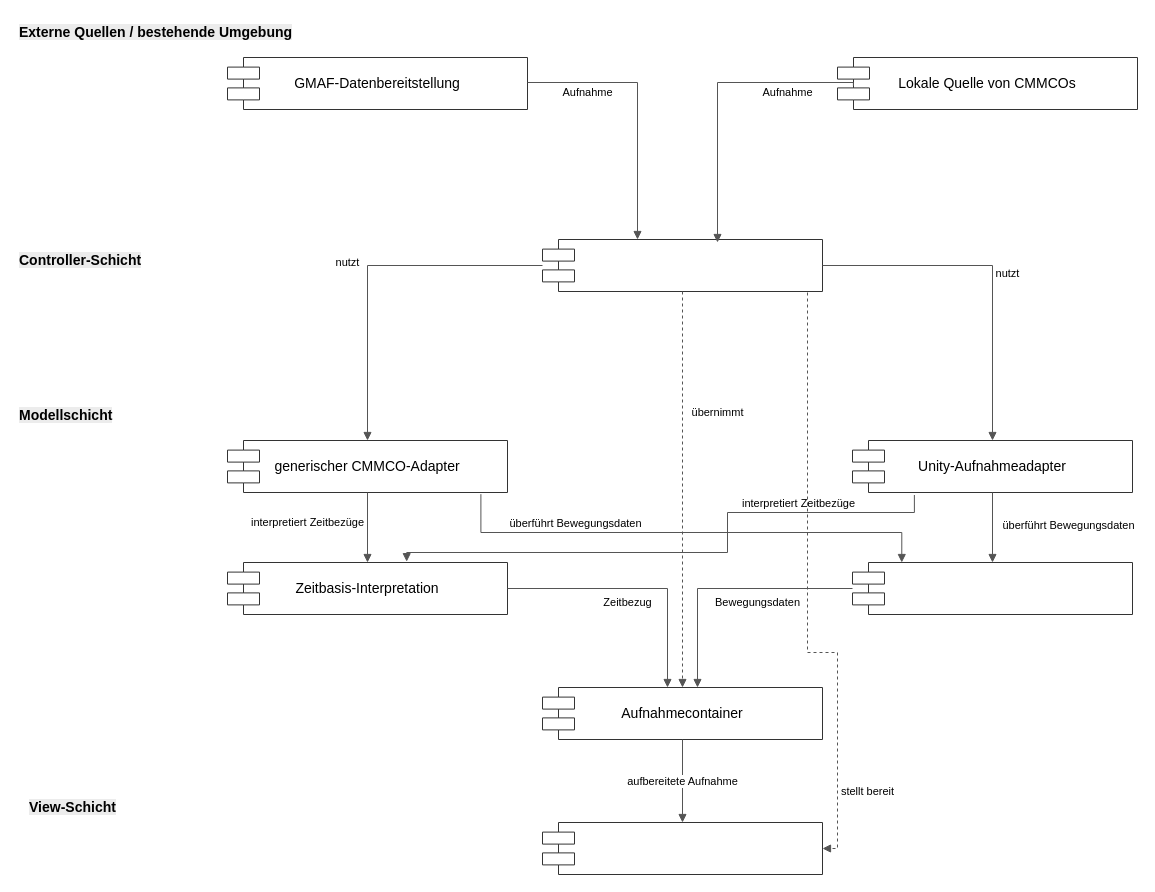
This 1155x892 diagram has some shape labels left out. The box of each missing label's shape, as (x1, y1, x2, y2) in pixels:
Analyseoberfläche: (542, 822, 822, 874)
Aufnahmeverwaltung: (542, 238, 822, 292)
Bewegungsdatenmodell: (852, 562, 1132, 614)
